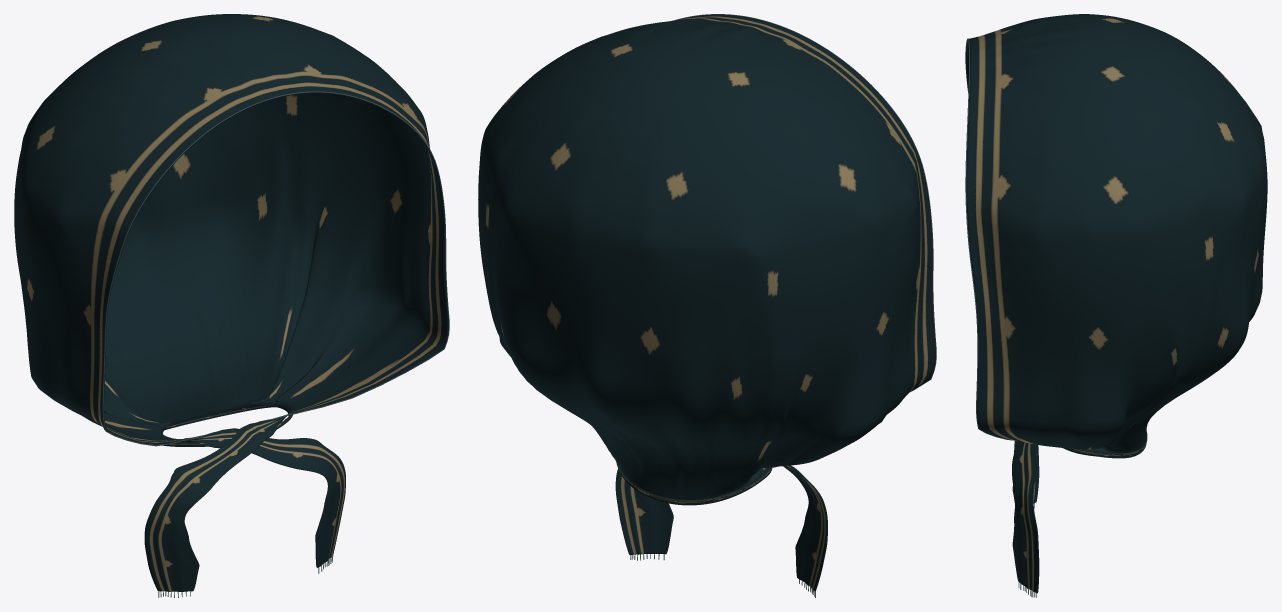
Rendered from Masculine-curly-top-shirtless-pashmina249-headgear.glb.
The picture shows the model from 3 angles, left to right: view 1: azimuth 30°, elevation 25°; view 2: azimuth 150°, elevation 25°; view 3: azimuth 270°, elevation 25°; orthographic projection. The views are drawn at different scales.
Parts seen in each view (by area): view 1: 226 headgear / Headwear / continuous woven pashmina239, 226 headgear / Headwear / face edge239; view 2: 226 headgear / Headwear / continuous woven pashmina239, 226 headgear / Headwear / face edge239; view 3: 226 headgear / Headwear / continuous woven pashmina239, 226 headgear / Headwear / face edge239.
Part boxes in pixels (box(x1,y1,x2,y2)): 226 headgear / Headwear / continuous woven pashmina239: box(14, 14, 448, 591); 226 headgear / Headwear / face edge239: box(102, 91, 449, 446); 226 headgear / Headwear / continuous woven pashmina239: box(478, 14, 935, 591); 226 headgear / Headwear / face edge239: box(673, 14, 936, 391); 226 headgear / Headwear / continuous woven pashmina239: box(966, 14, 1267, 593); 226 headgear / Headwear / face edge239: box(965, 38, 1010, 440).
Size of the model in its own units: 1.08 by 1.45 by 0.762.
Materials: 3 (1 with a texture image).
